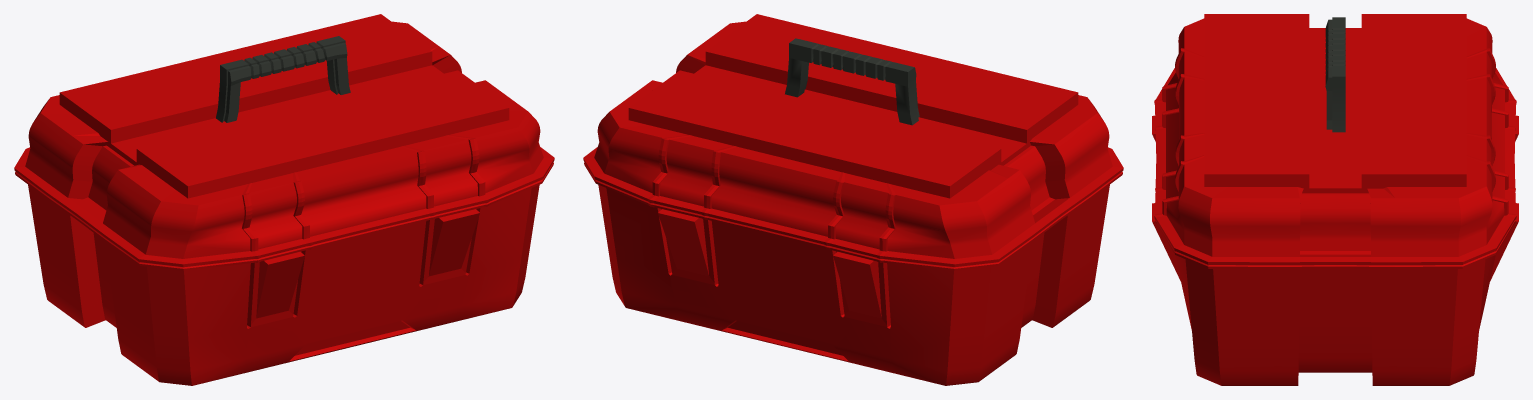
Rendered from SM_toolbox_01.fbx.
3 renders of one model, left to right at view 1: azimuth 30°, elevation 25°; view 2: azimuth 150°, elevation 25°; view 3: azimuth 270°, elevation 25°, orthographic. The views are drawn at different scales.
Visible parts, largest first — view 1: toolbox_01; view 2: toolbox_01; view 3: toolbox_01.
Part boxes in pixels (x1=…): toolbox_01: x1=14, y1=14, x2=554, y2=385; toolbox_01: x1=583, y1=14, x2=1123, y2=385; toolbox_01: x1=1152, y1=14, x2=1518, y2=385.
Bounding box in the file's own units: 116 × 64.47 × 86.11.
